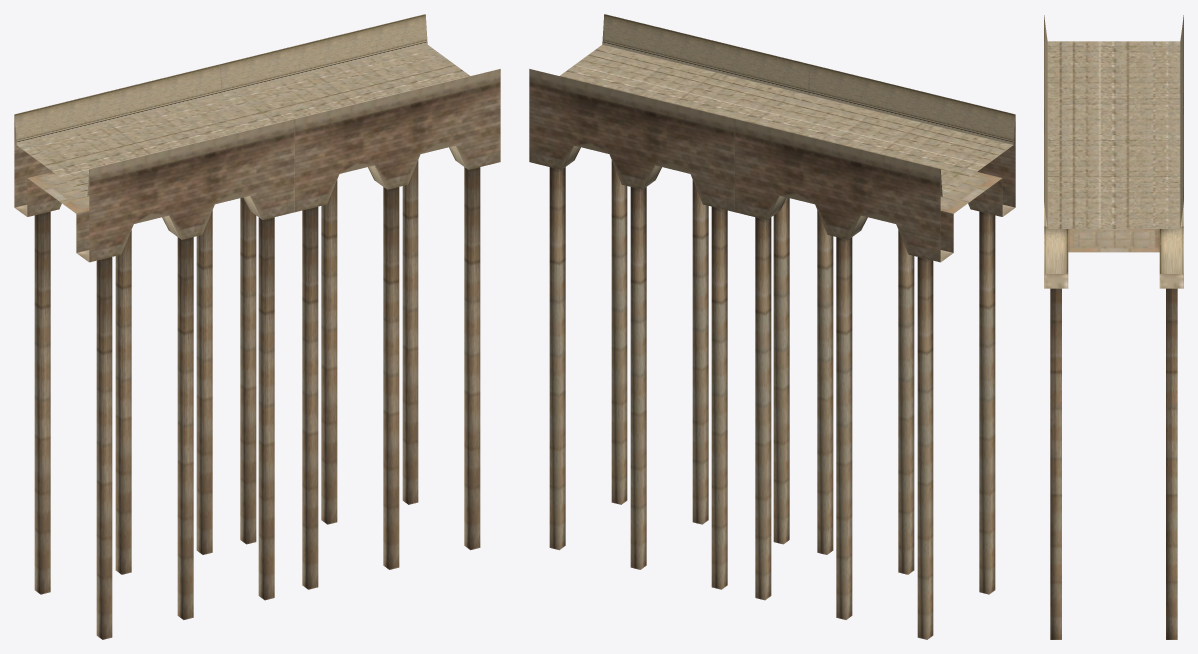
File: thm_nboo_imprv_elevated_walkway_s02_l3.fbx
The picture shows the model from 3 angles, left to right: view 1: azimuth 30°, elevation 25°; view 2: azimuth 150°, elevation 25°; view 3: azimuth 270°, elevation 25°; orthographic projection. The views are drawn at different scales.
Parts seen in each view (by area): view 1: mesh_node; view 2: mesh_node; view 3: mesh_node.
Part boxes in pixels (<box>): mesh_node: <box>14,14,500,639</box>; mesh_node: <box>529,14,1015,639</box>; mesh_node: <box>1044,15,1183,639</box>.
Bounding box in the file's own units: 16.5 × 18.3 × 5.2.
